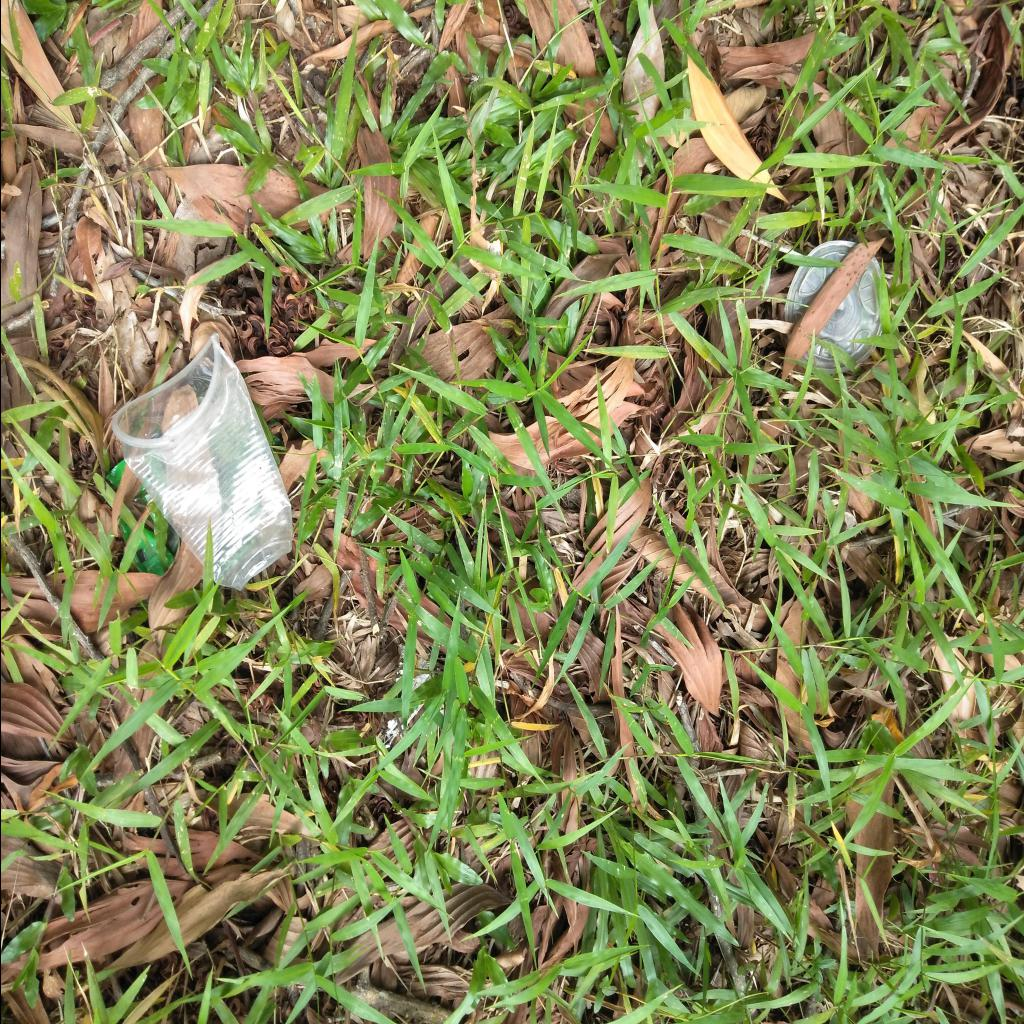Disposable plastic cup: (110, 332, 292, 592)
Other plastic: (105, 459, 163, 577)
Plastic lid: (784, 241, 880, 373)
